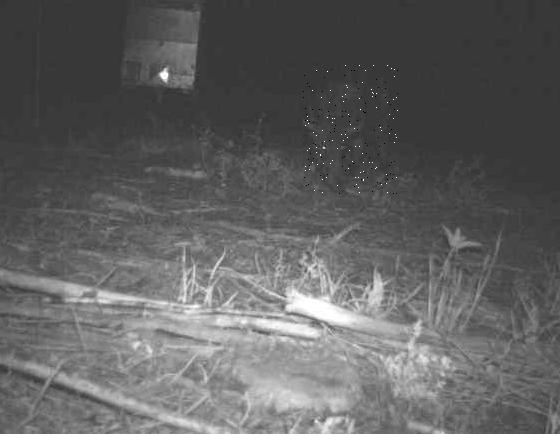Hog: (303, 66, 398, 195)
